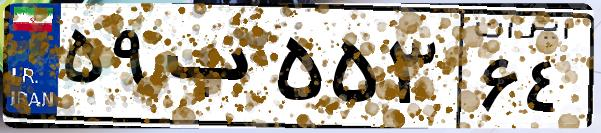3: (385, 28, 445, 110)
4: (525, 38, 570, 115)
5: (270, 28, 330, 110), (330, 28, 385, 110), (57, 26, 110, 100)
6: (475, 38, 525, 113)
9: (110, 28, 158, 98)
ب: (158, 20, 270, 120)
